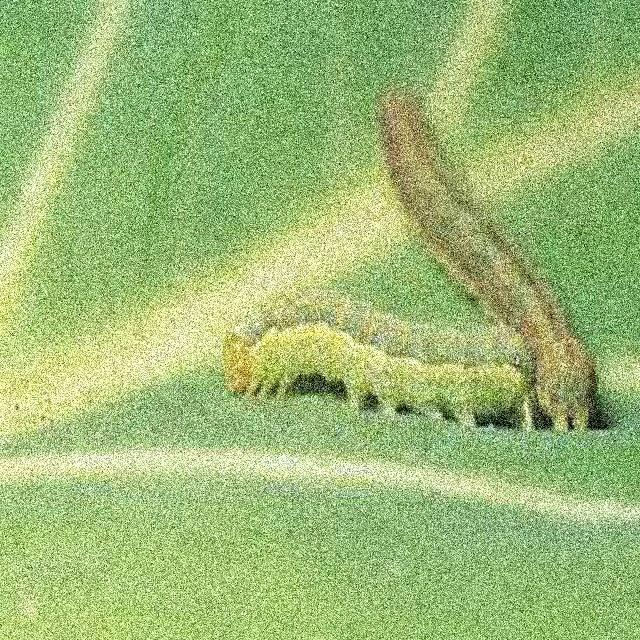worm: (375, 87, 600, 435), (221, 319, 535, 433)
